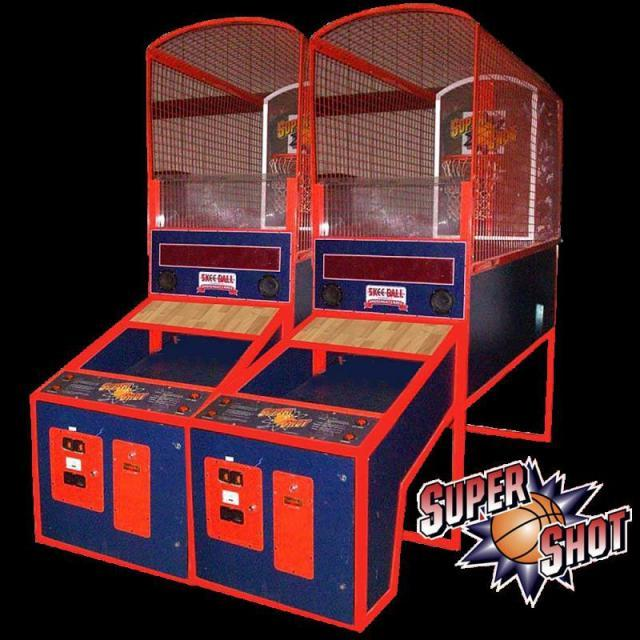hoop: (442, 153, 506, 220), (270, 153, 319, 214)
